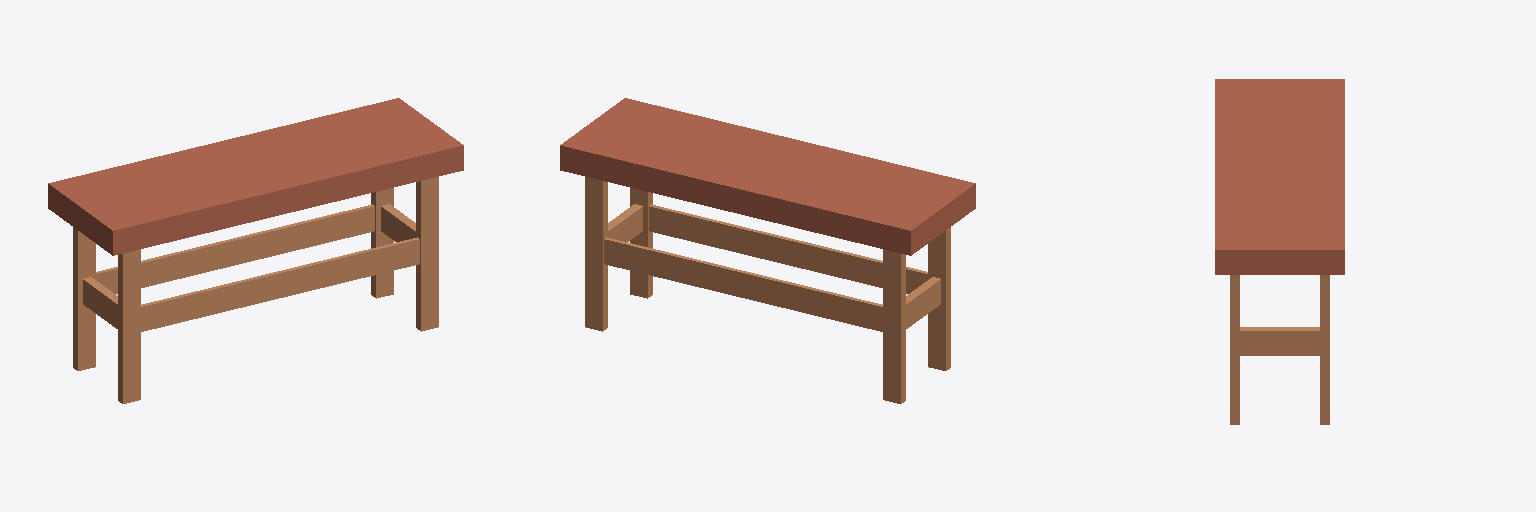
File: TVTableBig.obj
The picture shows the model from 3 angles: view 1: azimuth 30°, elevation 25°; view 2: azimuth 150°, elevation 25°; view 3: azimuth 270°, elevation 25°; orthographic projection.
Visible parts, largest first — view 1: mergedBlocks; view 2: mergedBlocks; view 3: mergedBlocks.
Part boxes in pixels (bbox=[...]): mergedBlocks: bbox=[48, 98, 463, 403]; mergedBlocks: bbox=[560, 98, 975, 403]; mergedBlocks: bbox=[1215, 79, 1344, 424].
Bounding box in the file's own units: 2.25 × 1.12 × 0.7215.